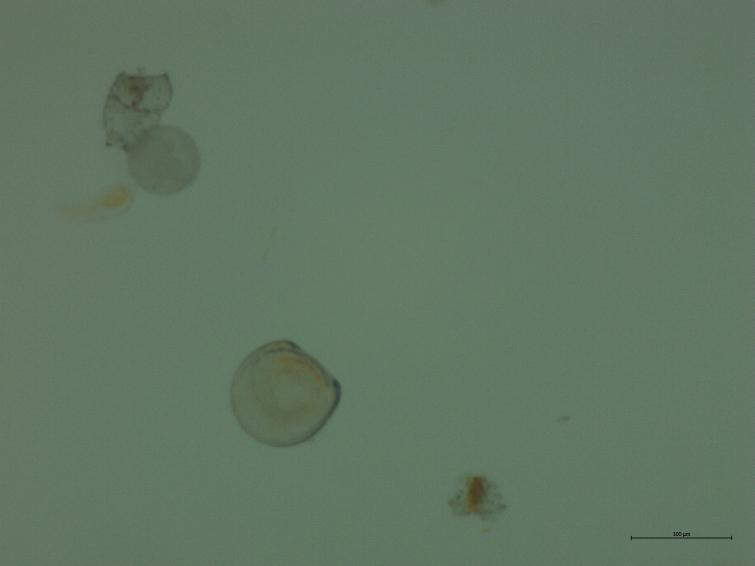oyster: (225, 333, 346, 459)
